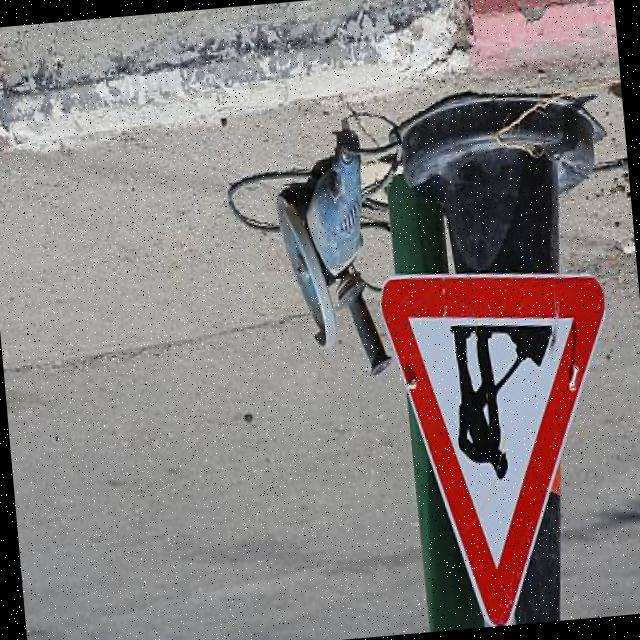road_work: (371, 259, 634, 634)
